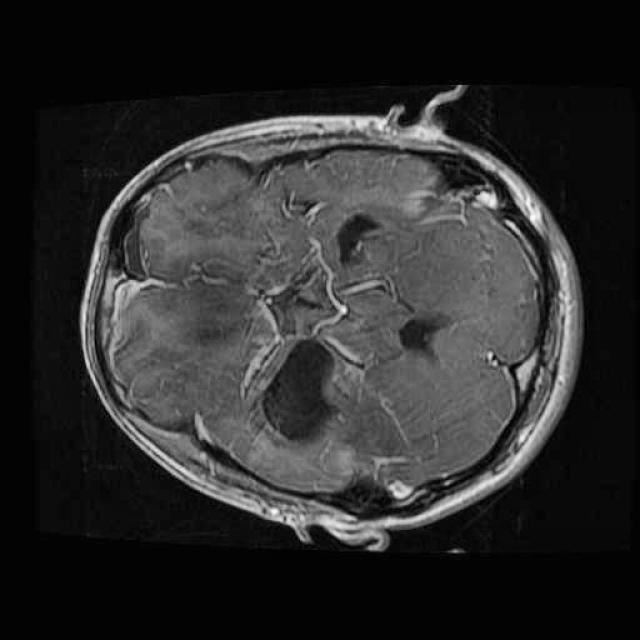Non-Tumor: (248, 322, 356, 460)
